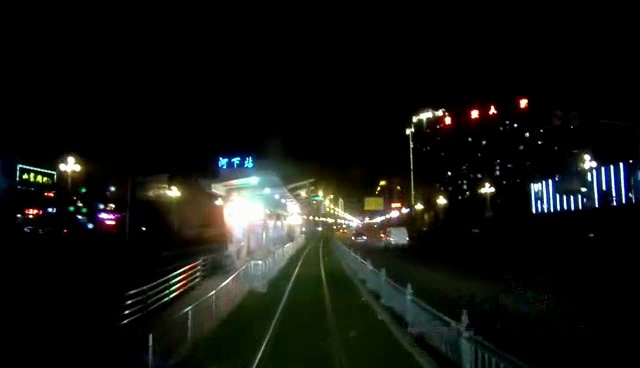car: (384, 225, 415, 249)
